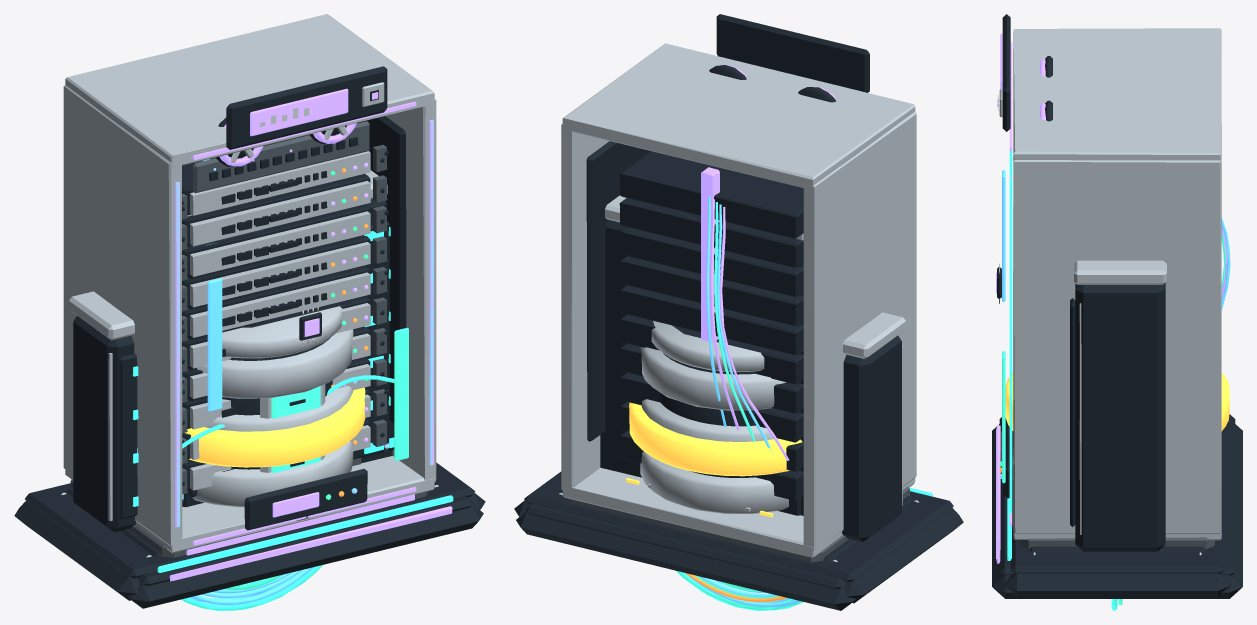
Rendered from edc-journey.glb.
3 views of the same model, side by side, from view 1: azimuth 30°, elevation 25°; view 2: azimuth 150°, elevation 25°; view 3: azimuth 270°, elevation 25° (orthographic). The views are drawn at different scales.
Visible parts, largest first — view 1: ConsumerEDC_Body, CompanyA_System_Body, Artifact_Source_Body, ProviderEDC_Body, Artifact_Agreement_Body, Artifact_Payload_Body, ConsumerEDC_ControlPlane, ConsumerEDC_DataPlane, Artifact_Offer_Body, Artifact_Trust_Body, CompanyB_System_Body; view 2: ConsumerEDC_Body, CompanyA_System_Body, Artifact_Source_Body, ProviderEDC_Body, Artifact_Agreement_Body, Artifact_Payload_Body, CompanyB_System_Body, Artifact_Offer_Body; view 3: ProviderEDC_Body, CompanyA_System_Body, ConsumerEDC_Body, CompanyB_System_Body, Artifact_Agreement_Body, Artifact_Offer_Body, ConsumerEDC_DataPlane, ConsumerEDC_ControlPlane.
Boxes of the visible parts, x1,y1,x2,y2 form: ConsumerEDC_Body: (63, 14, 483, 608); CompanyA_System_Body: (14, 159, 485, 600); Artifact_Source_Body: (181, 329, 353, 610); ProviderEDC_Body: (160, 87, 436, 545); Artifact_Agreement_Body: (185, 387, 365, 467); Artifact_Payload_Body: (222, 306, 342, 592); ConsumerEDC_ControlPlane: (207, 278, 222, 411); ConsumerEDC_DataPlane: (394, 327, 408, 460); Artifact_Offer_Body: (67, 488, 431, 598); Artifact_Trust_Body: (191, 567, 312, 604); CompanyB_System_Body: (203, 160, 394, 460); ConsumerEDC_Body: (516, 14, 929, 610); CompanyA_System_Body: (514, 195, 963, 603); Artifact_Source_Body: (640, 347, 803, 610); ProviderEDC_Body: (561, 114, 911, 551); Artifact_Agreement_Body: (629, 402, 802, 476); Artifact_Payload_Body: (651, 321, 794, 608); CompanyB_System_Body: (600, 197, 636, 471); Artifact_Offer_Body: (699, 496, 913, 597); ProviderEDC_Body: (997, 95, 1221, 533); CompanyA_System_Body: (1003, 260, 1231, 597); ConsumerEDC_Body: (992, 14, 1242, 598); CompanyB_System_Body: (1071, 260, 1199, 554); Artifact_Agreement_Body: (1005, 372, 1229, 431); Artifact_Offer_Body: (1029, 547, 1205, 551); ConsumerEDC_DataPlane: (1002, 351, 1005, 483); ConsumerEDC_ControlPlane: (1002, 169, 1005, 302).
Bounding box in the file's own units: 2.84 × 4.15 × 1.72.
